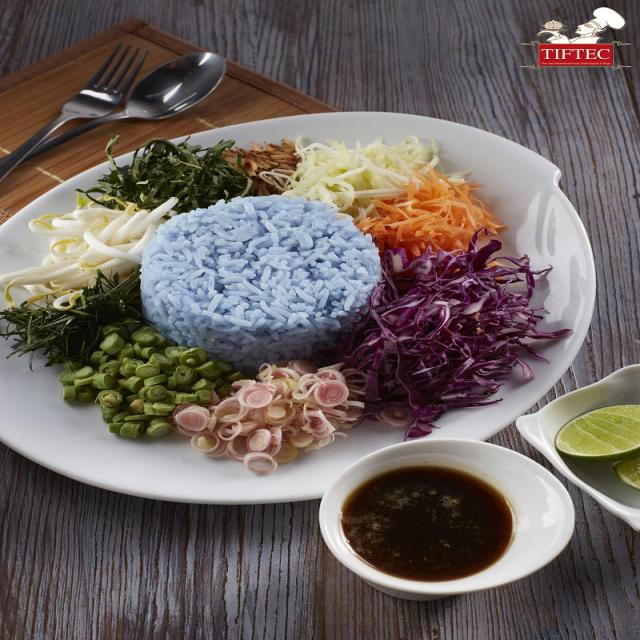carb: (152, 206, 380, 356)
rice salad: (4, 170, 564, 451)
vegetable: (388, 189, 555, 419), (28, 209, 171, 421)
